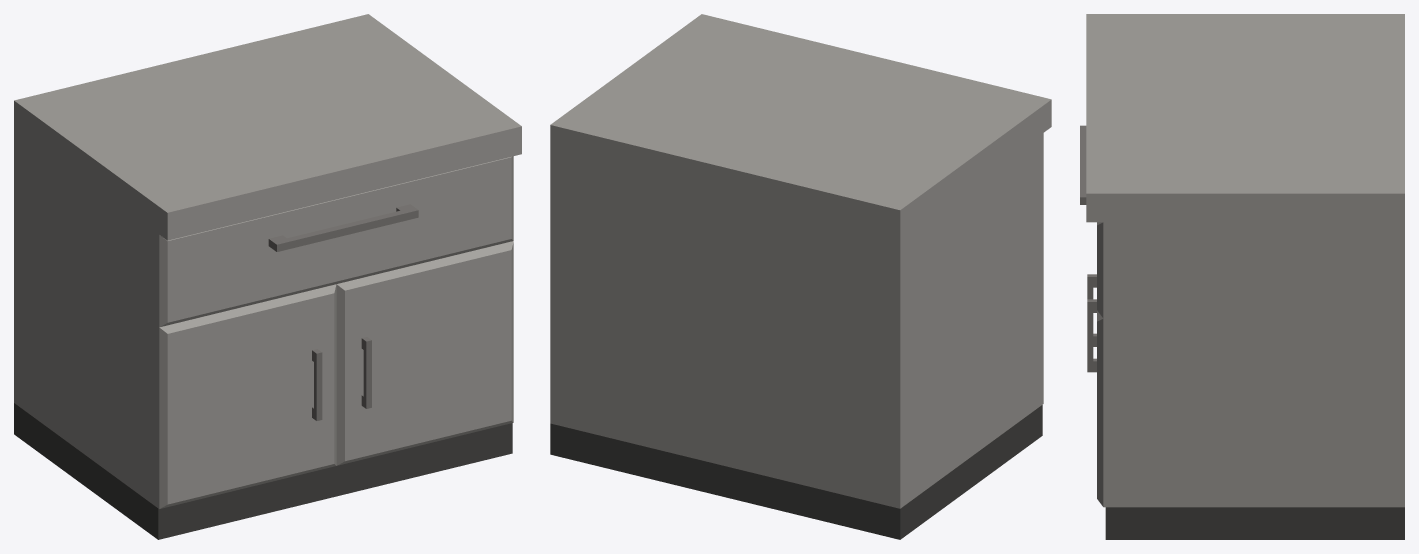
File: SM_Props_Interior_House_Kitchen_Drawer_03.fbx
3 renders of one model, left to right at view 1: azimuth 30°, elevation 25°; view 2: azimuth 150°, elevation 25°; view 3: azimuth 270°, elevation 25°, orthographic. The views are drawn at different scales.
Visible parts, largest first — view 1: SM_Props_Interior_House_Kitchen_Drawer_03; view 2: SM_Props_Interior_House_Kitchen_Drawer_03; view 3: SM_Props_Interior_House_Kitchen_Drawer_03.
Part boxes in pixels (box(x1,y1,x2,y2)): SM_Props_Interior_House_Kitchen_Drawer_03: box(14, 14, 521, 539); SM_Props_Interior_House_Kitchen_Drawer_03: box(550, 14, 1051, 539); SM_Props_Interior_House_Kitchen_Drawer_03: box(1080, 14, 1404, 539).
Bounding box in the file's own units: 100 × 90 × 76.5.
